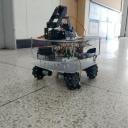cart: (30, 37, 101, 90)
